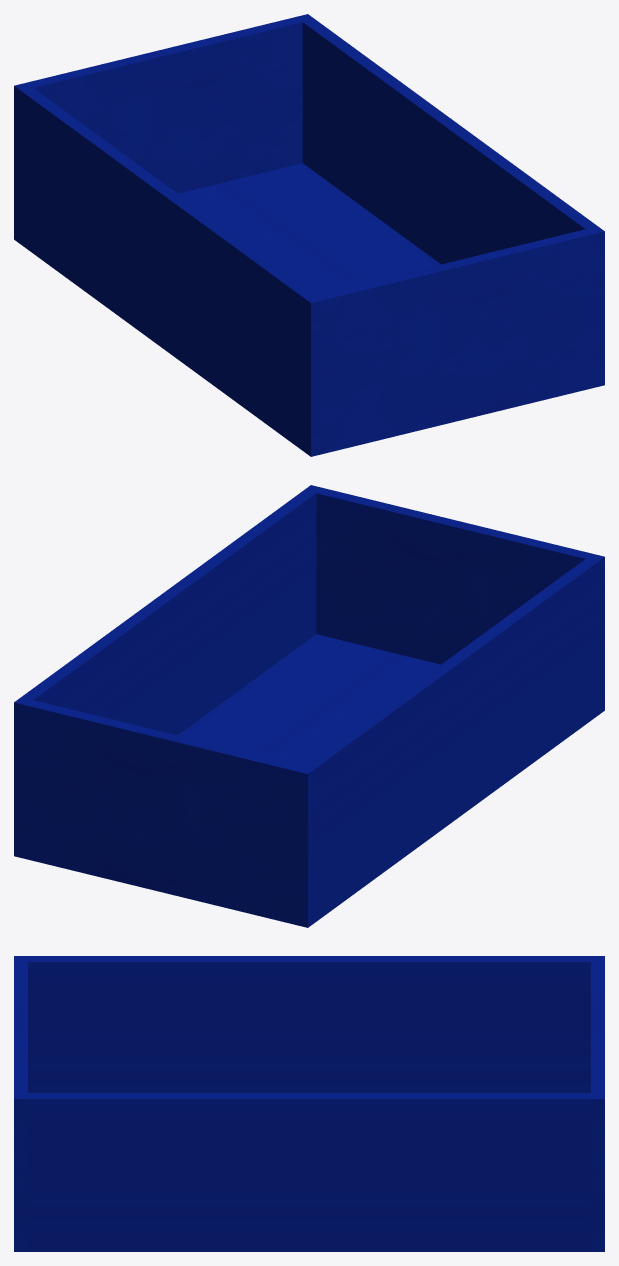
3 renders of one model, top to bottom at view 1: azimuth 30°, elevation 25°; view 2: azimuth 150°, elevation 25°; view 3: azimuth 270°, elevation 25°, orthographic.
Visible parts, largest first — view 1: Cube.001, Cube.002, Cube.004, Cube.005, Cube.003; view 2: Cube.005, Cube.002, Cube.004, Cube.001, Cube.003; view 3: Cube.004, Cube.002, Cube.001, Cube.005.
Part boxes in pixels (<box>): Cube.001: <box>304,226,604,456</box>; Cube.002: <box>21,88,315,451</box>; Cube.004: <box>302,19,597,264</box>; Cube.005: <box>14,14,314,244</box>; Cube.003: <box>178,163,440,294</box>; Cube.005: <box>14,697,314,927</box>; Cube.002: <box>303,559,597,922</box>; Cube.004: <box>21,490,316,735</box>; Cube.001: <box>304,485,604,715</box>; Cube.003: <box>178,634,440,765</box>; Cube.004: <box>28,1093,590,1251</box>; Cube.002: <box>28,956,590,1092</box>; Cube.001: <box>14,956,27,1251</box>; Cube.005: <box>591,956,604,1251</box>.
Size of the model in its own units: 0.12 by 0.06 by 0.21.
Materials: 1 (1 with a texture image).
